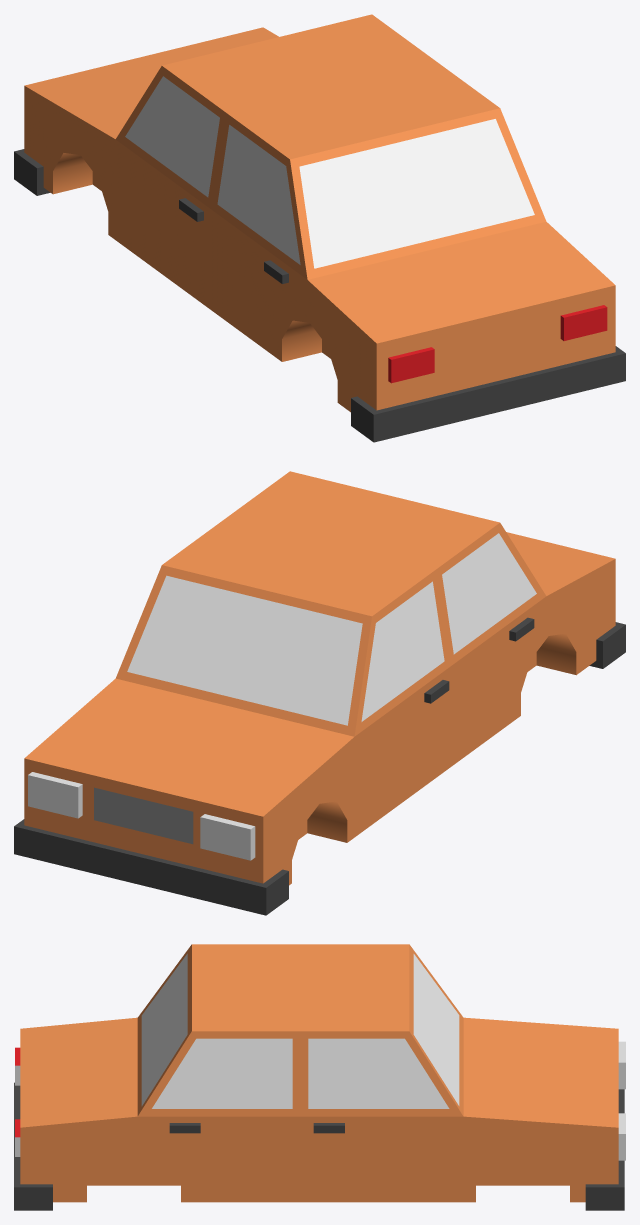
File: Car.FBX
3 renders of one model, top to bottom at view 1: azimuth 30°, elevation 25°; view 2: azimuth 150°, elevation 25°; view 3: azimuth 270°, elevation 25°, orthographic. The views are drawn at different scales.
Parts seen in each view (by area): view 1: CarInsided, Glass; view 2: CarInsided, Glass; view 3: CarInsided, Glass.
Boxes of the visible parts, x1=… form: CarInsided: x1=14, y1=14, x2=625, y2=442; Glass: x1=125, y1=76, x2=534, y2=268; CarInsided: x1=14, y1=471, x2=625, y2=915; Glass: x1=127, y1=533, x2=536, y2=725; CarInsided: x1=14, y1=944, x2=625, y2=1210; Glass: x1=141, y1=953, x2=459, y2=1108.
Size of the model in its own units: 0.0483 by 0.1195 by 0.0368.
